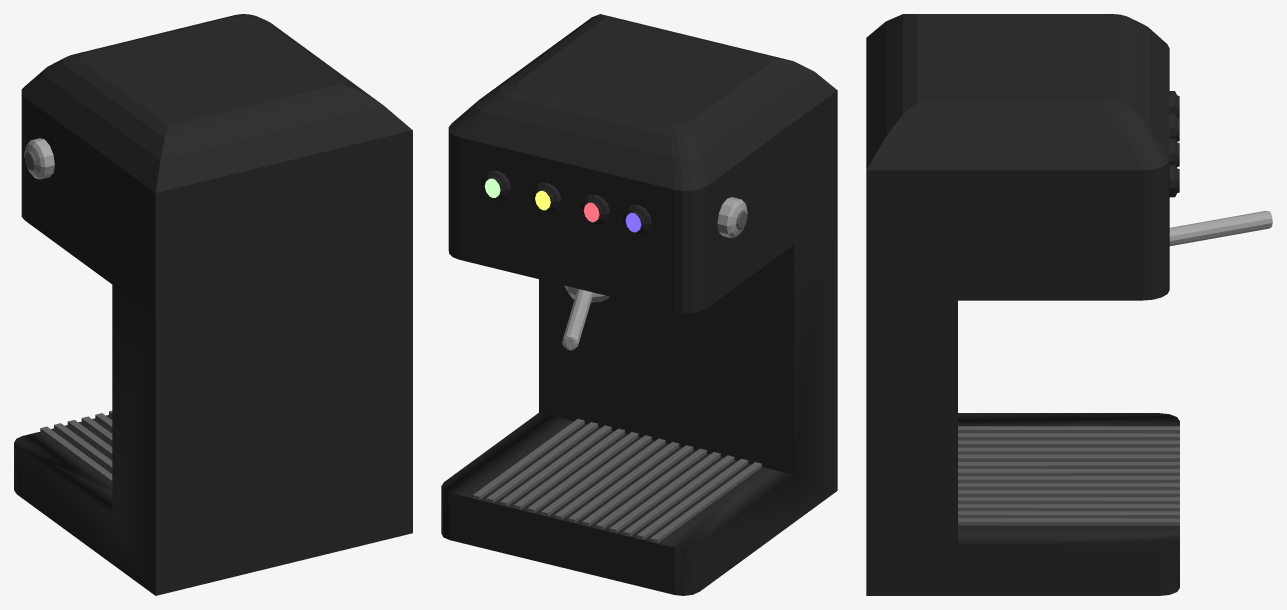
Rendered from coffeemachine.fbx.
The picture shows the model from 3 angles, left to right: view 1: azimuth 30°, elevation 25°; view 2: azimuth 150°, elevation 25°; view 3: azimuth 270°, elevation 25°; orthographic projection. The views are drawn at different scales.
Parts seen in each view (by area): view 1: Coffee Brewer; view 2: Coffee Brewer; view 3: Coffee Brewer.
Part boxes in pixels (<box>): Coffee Brewer: <box>14,14,412,595</box>; Coffee Brewer: <box>441,14,837,595</box>; Coffee Brewer: <box>866,14,1272,595</box>.
Size of the model in its own units: 67.43 by 105 by 82.35.
